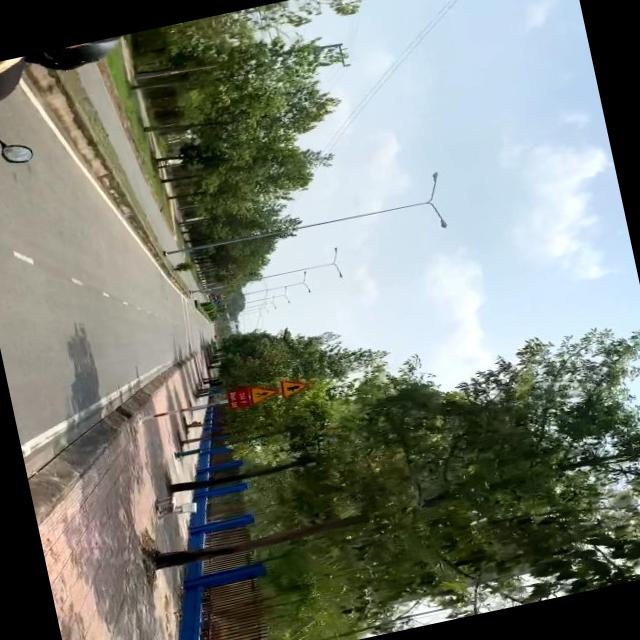W-207b: (278, 374, 310, 399)
W-224: (247, 378, 281, 407)
